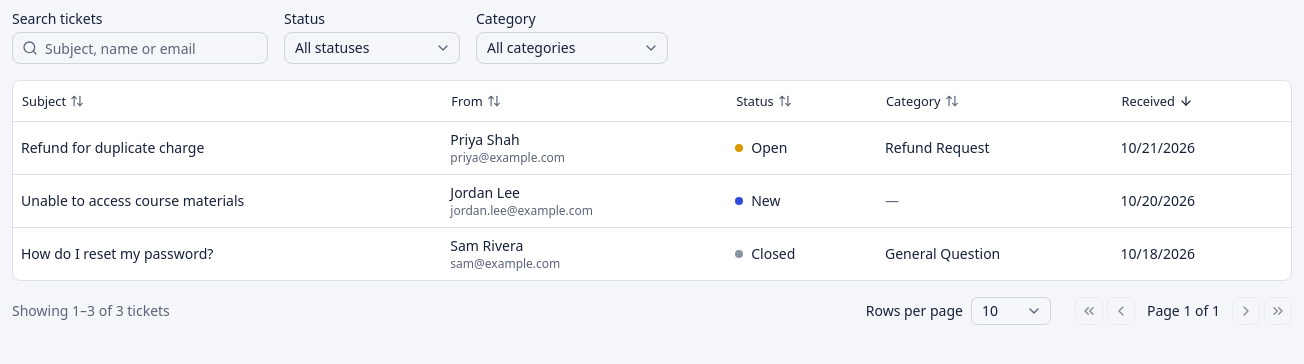
Test case: TicketsTable › filters › filters uncategorised tickets with category=none
The width and height of the screenshot is (1304, 364).
Check: the link "Refund for duplicate charge" is shown, box [21,138,204,156]
Click the dropdown named "Category": {"x": 572, "y": 48} [476,32,668,64]
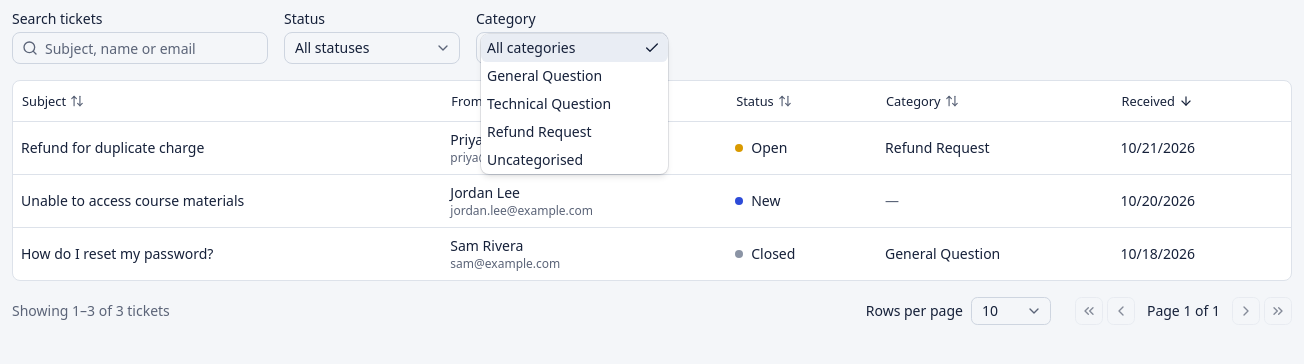
Click the option "Uncategorised": {"x": 535, "y": 160} [487,150,583,169]
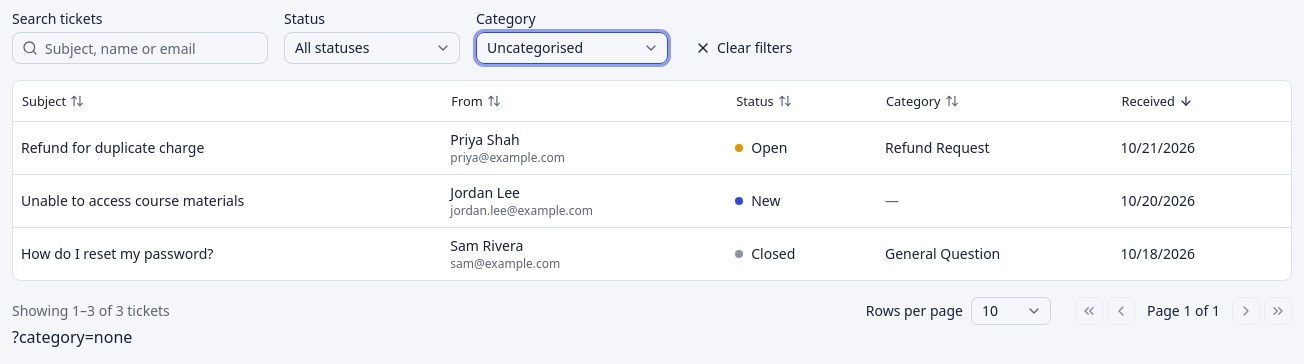
Check: the text with test id "location-search" reads "?category=none", box [12,326,132,348]
